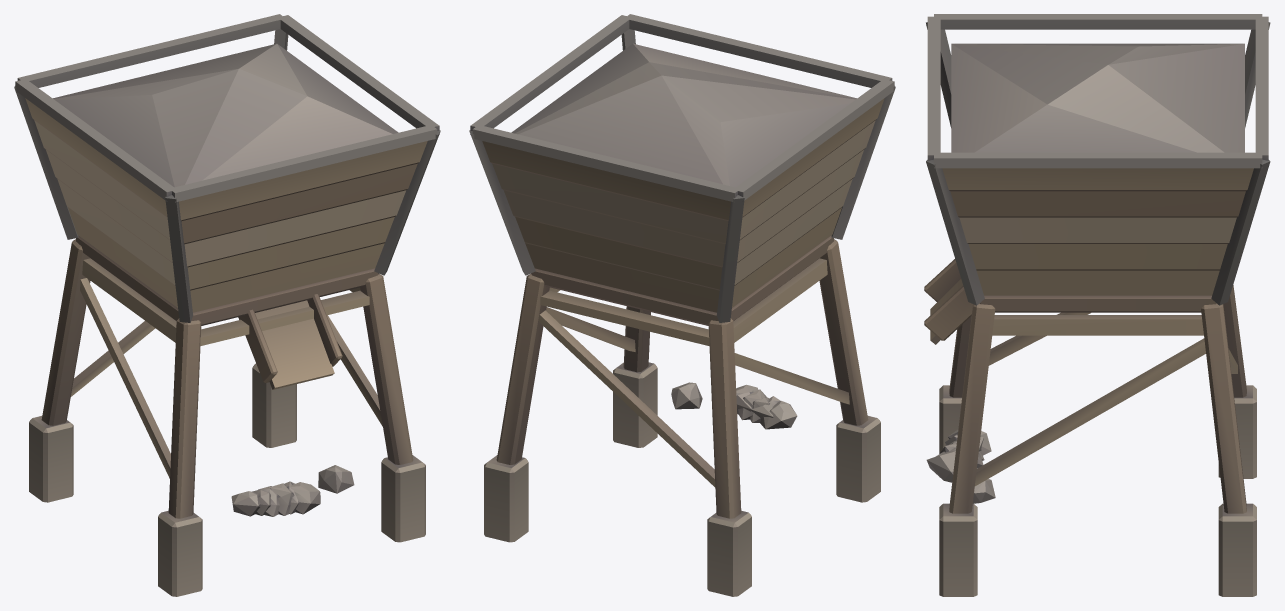
The model's file is orebin.glb.
The picture shows the model from 3 angles, left to right: view 1: azimuth 30°, elevation 25°; view 2: azimuth 150°, elevation 25°; view 3: azimuth 270°, elevation 25°; orthographic projection. The views are drawn at different scales.
Size of the model in its own units: 3.41 by 5.16 by 3.42.
